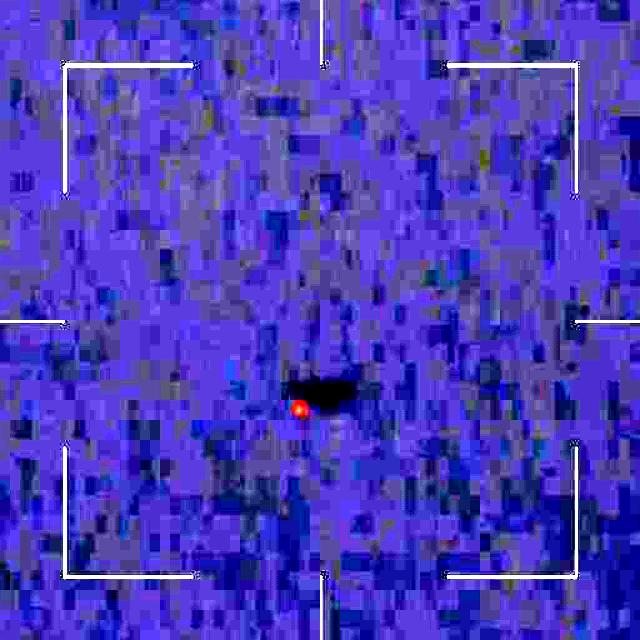bird: (282, 375, 330, 429)
